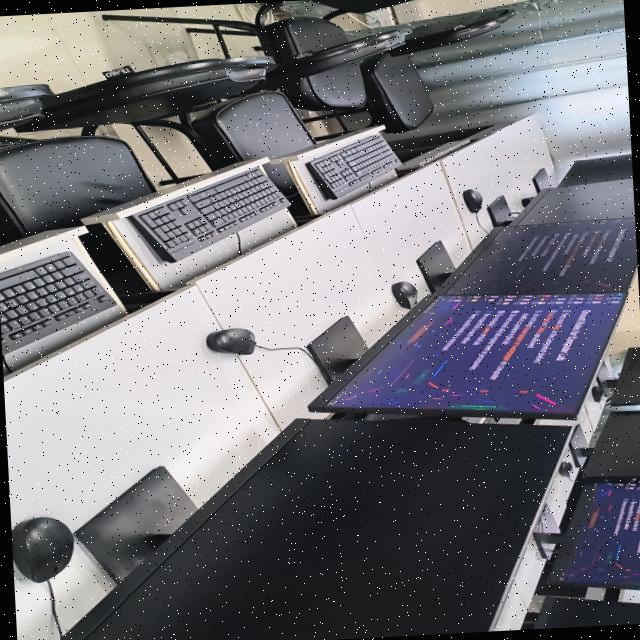Chair: (0, 51, 341, 242), (130, 31, 403, 171), (344, 10, 512, 133), (102, 1, 346, 64), (280, 60, 365, 111)
Keyboard: (131, 166, 289, 262), (0, 252, 116, 354), (306, 133, 399, 198)
Monitor: (59, 418, 569, 640), (308, 293, 625, 419), (446, 218, 637, 295), (549, 483, 640, 590), (512, 178, 635, 225), (581, 411, 640, 480), (521, 596, 640, 630), (558, 154, 633, 186), (610, 347, 640, 406)
Mouse: (11, 517, 73, 583), (207, 328, 255, 355), (391, 282, 417, 309), (463, 189, 482, 213), (558, 462, 573, 480), (591, 386, 605, 402)
